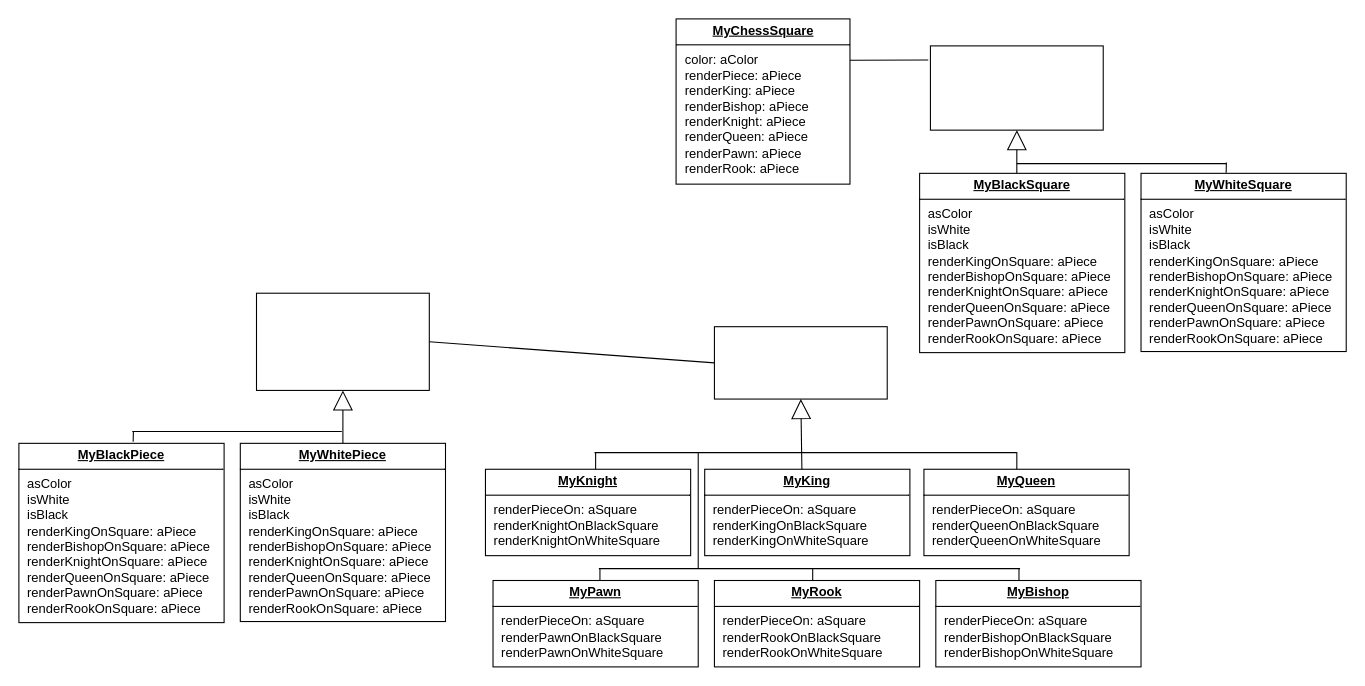
Some shapes in this 1365 by 686 pixel diagram are drawn without their labels. Here are the shapes that lost their labels. From the top down, the box of each, then its label:
(929, 45, 1103, 130): MySquareColor asColor isWhite isBlack
(255, 292, 429, 390): MyPieceColor asColor isWhite isBlack = other
(713, 326, 887, 399): MyPiece black white
